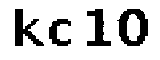0: (116, 6, 151, 48)
1: (78, 5, 113, 49)
c: (47, 16, 74, 47)
k: (10, 5, 47, 52)
